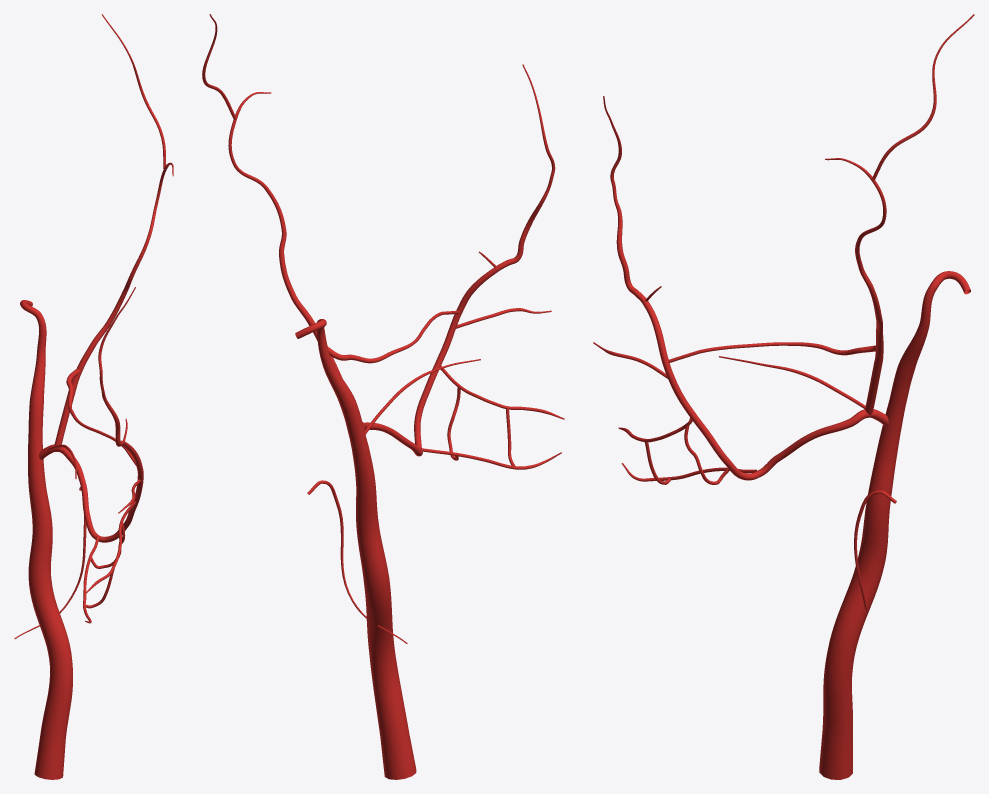
Rendered from circulatorio-internal-jugular-vein-l.glb.
3 views of the same model, side by side, from view 1: azimuth 30°, elevation 25°; view 2: azimuth 150°, elevation 25°; view 3: azimuth 270°, elevation 25° (orthographic). The views are drawn at different scales.
Parts seen in each view (by area): view 1: Internal jugular vein.l, Superficial temporal veins.l, Facial vein.l, Angular vein.l, Inferior labial veins.l, Maxillary veins.l, Anterior division of retromandibular vein.l, Superior thyroid vein.l, Submental vein.l; view 2: Internal jugular vein.l, Superficial temporal veins.l, Facial vein.l, Angular vein.l, Inferior labial veins.l, Maxillary veins.l, Superior thyroid vein.l; view 3: Internal jugular vein.l, Facial vein.l, Superficial temporal veins.l, Angular vein.l, Maxillary veins.l, Inferior labial veins.l.
Boxes of the visible parts, x1,y1,x2,y2 form: Internal jugular vein.l: (20,300,72,779); Superficial temporal veins.l: (90,14,173,346); Facial vein.l: (55,447,143,542); Angular vein.l: (98,287,136,455); Inferior labial veins.l: (85,501,135,608); Maxillary veins.l: (66,368,136,465); Anterior division of retromandibular vein.l: (54,387,76,445); Superior thyroid vein.l: (14,487,86,638); Submental vein.l: (83,535,99,623); Internal jugular vein.l: (295,319,416,779); Superficial temporal veins.l: (202,14,312,322); Facial vein.l: (362,287,474,456); Angular vein.l: (470,64,555,291); Inferior labial veins.l: (440,365,564,466); Maxillary veins.l: (327,310,458,363); Superior thyroid vein.l: (307,480,407,643); Internal jugular vein.l: (819,271,970,779); Facial vein.l: (655,331,870,480); Superficial temporal veins.l: (825,14,974,333); Angular vein.l: (603,96,661,332); Maxillary veins.l: (668,342,875,362); Inferior labial veins.l: (618,417,728,484).
Size of the model in its own units: 0.0759 by 0.2601 by 0.1093.
